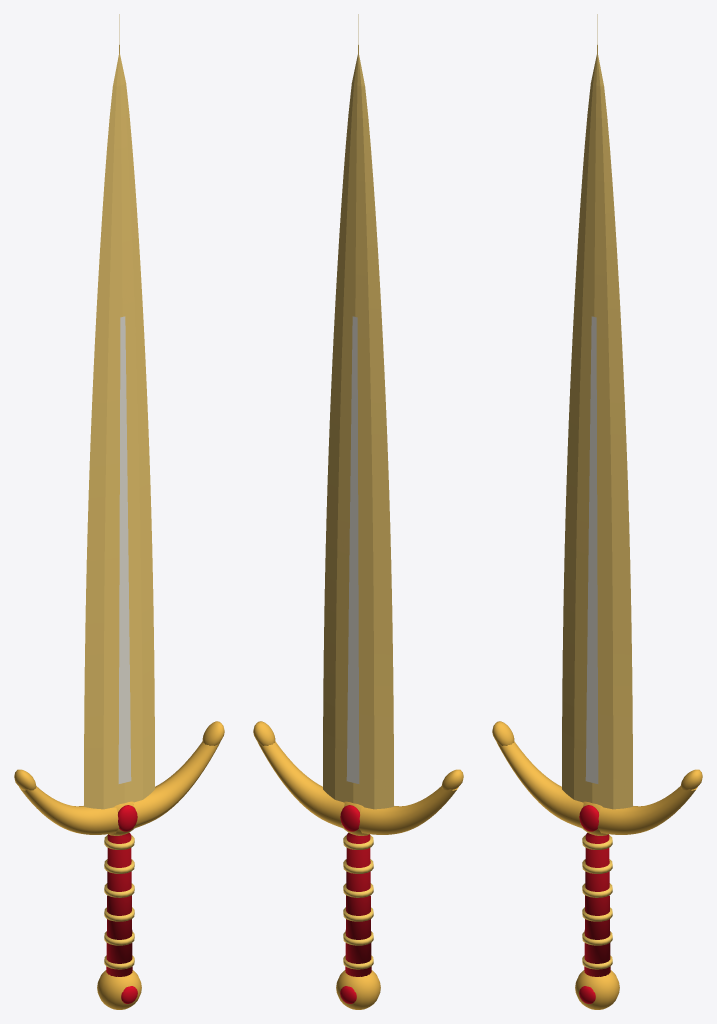
File: sword_daruking.fbx
The picture shows the model from 3 angles, left to right: view 1: azimuth 30°, elevation 25°; view 2: azimuth 150°, elevation 25°; view 3: azimuth 330°, elevation 25°; orthographic projection.
Parts seen in each view (by area): view 1: daruking_sword; view 2: daruking_sword; view 3: daruking_sword.
Part boxes in pixels (box(x1,y1,x2,y2)): daruking_sword: box(14, 14, 224, 1009); daruking_sword: box(253, 14, 463, 1009); daruking_sword: box(492, 14, 702, 1009).
Size of the model in its own units: 0.7263 by 3.33 by 0.146.
